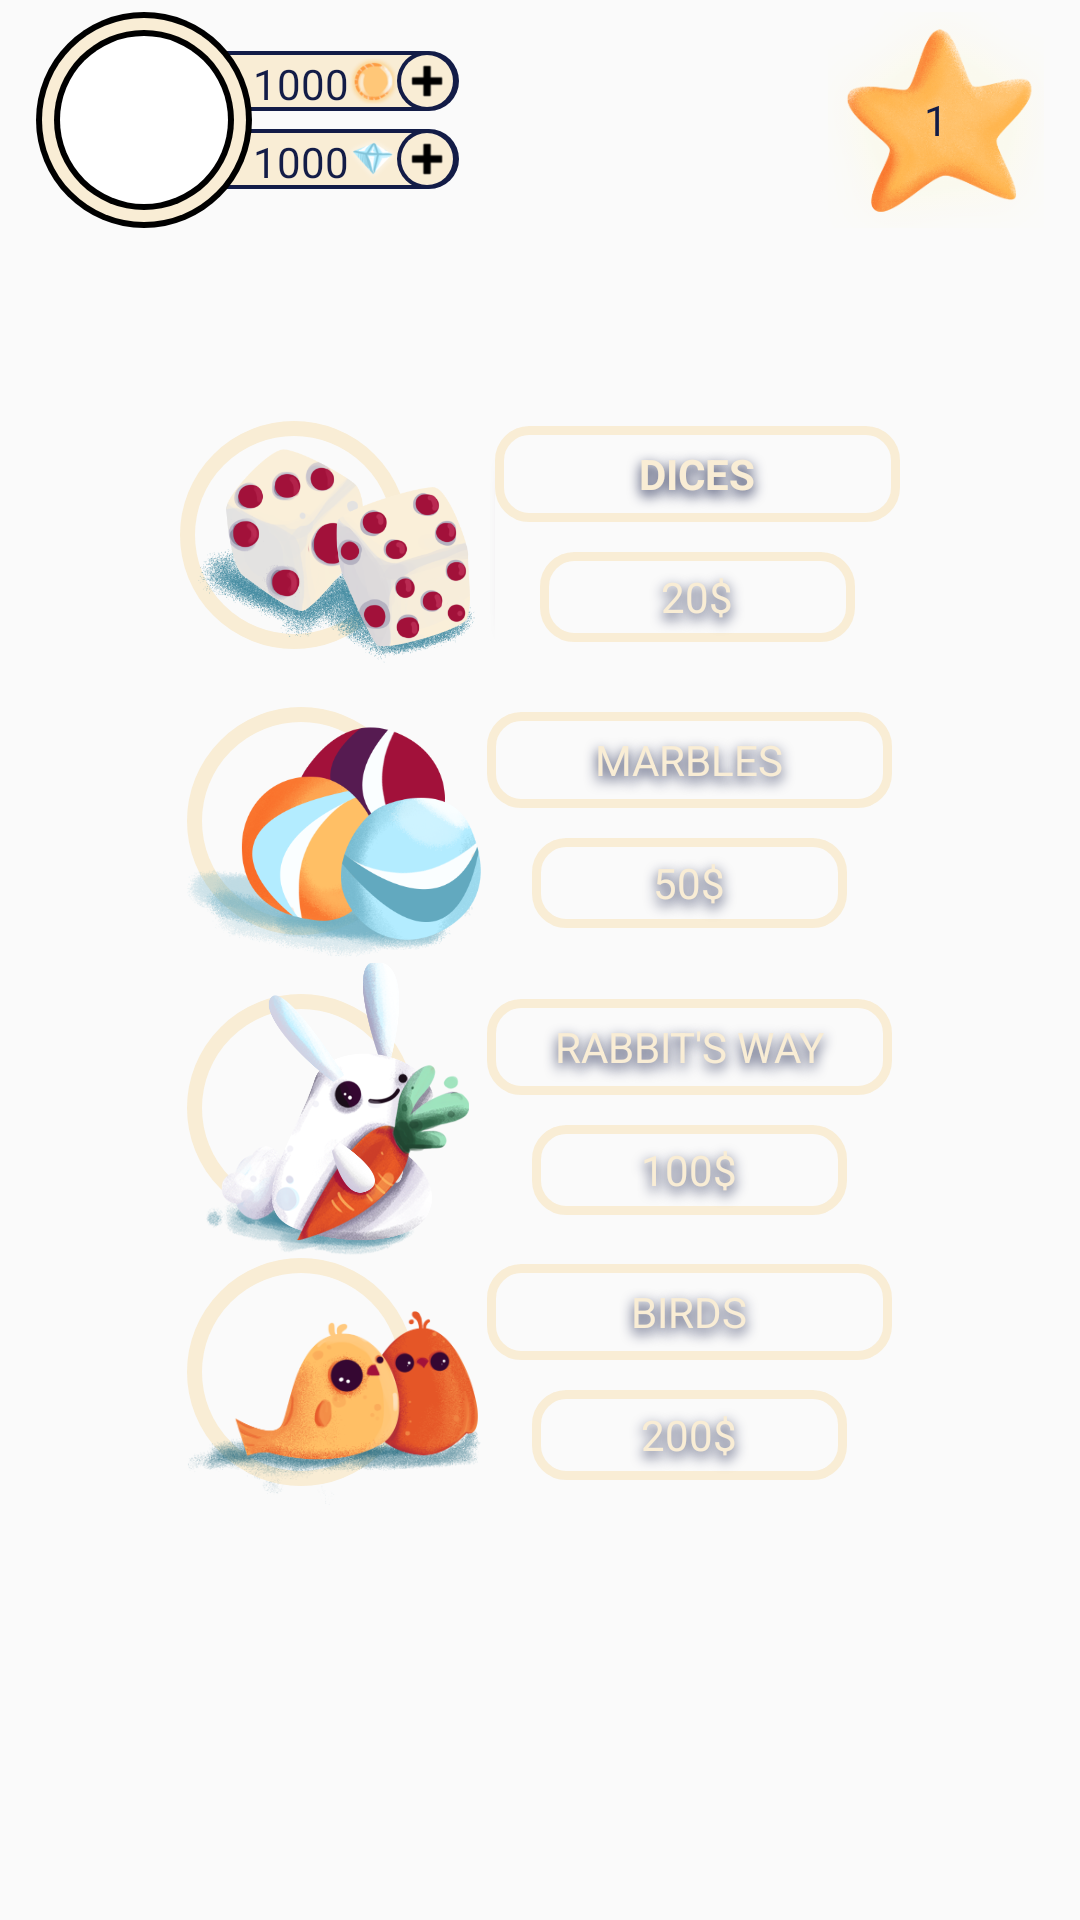

Icon click points for this 1080px×1920px phone screenshot, format (x,y):
coin: (373,82)
gem: (372,158)
plus: (427,81), (427,159)
